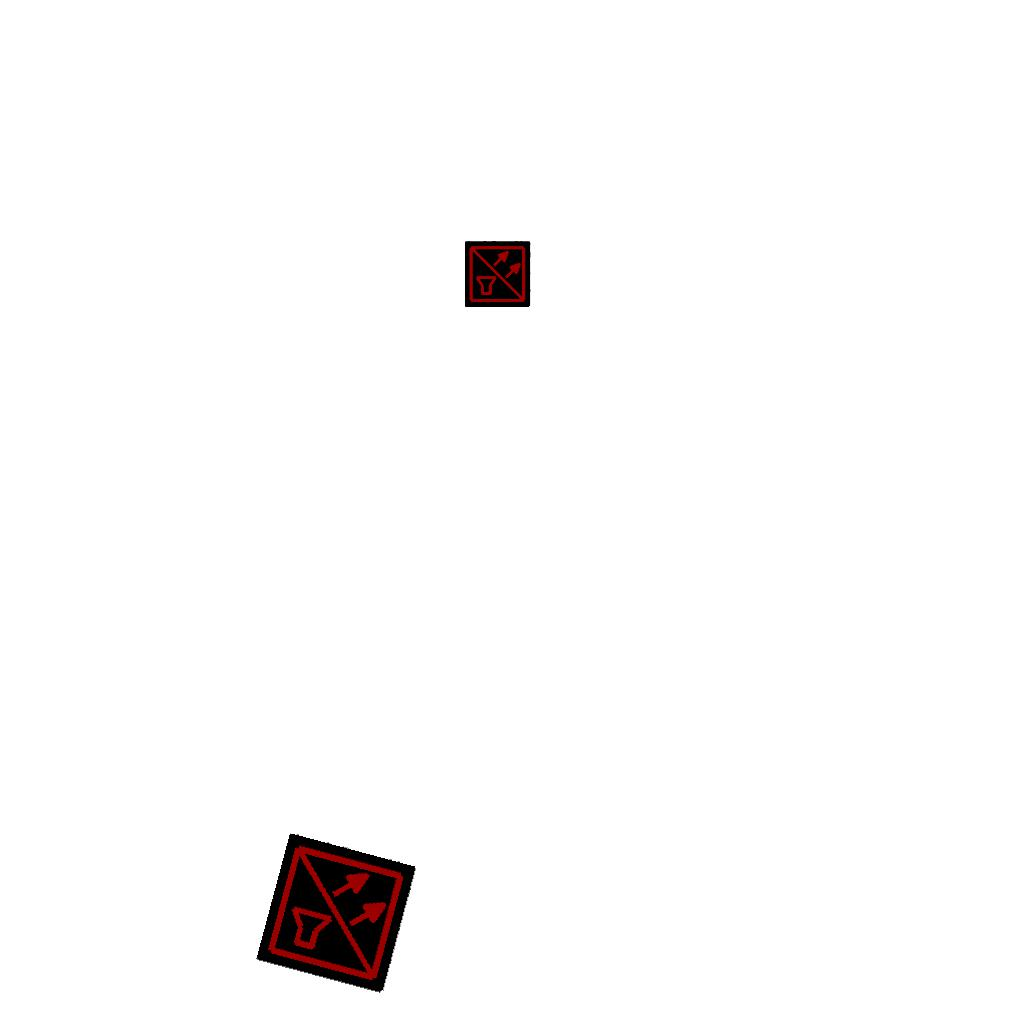OKW_Multisensormelder_(Kombination_optischer_Rauch-Kahlenmonoxid_Waerme-Melder): (256, 832, 418, 994), (465, 241, 531, 307)
